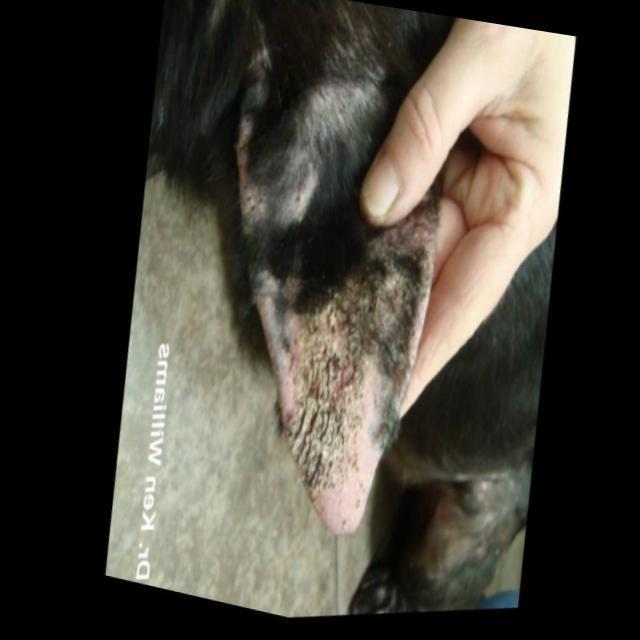mange: (258, 292, 423, 537)
